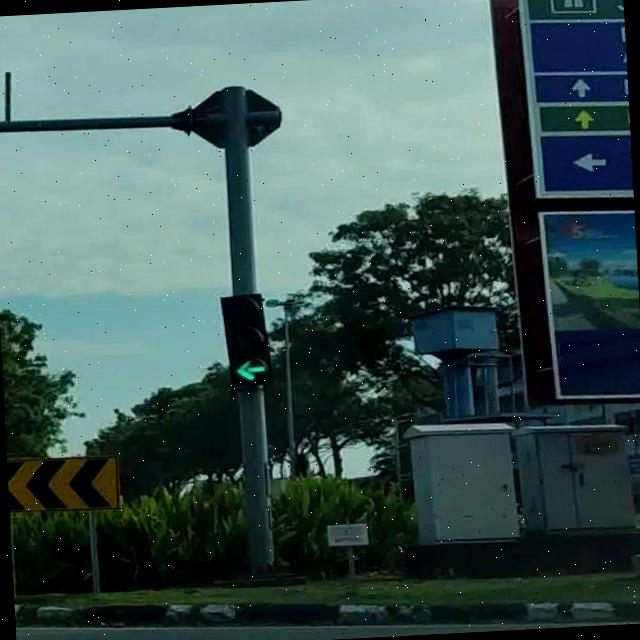green_light: (217, 292, 271, 384)
